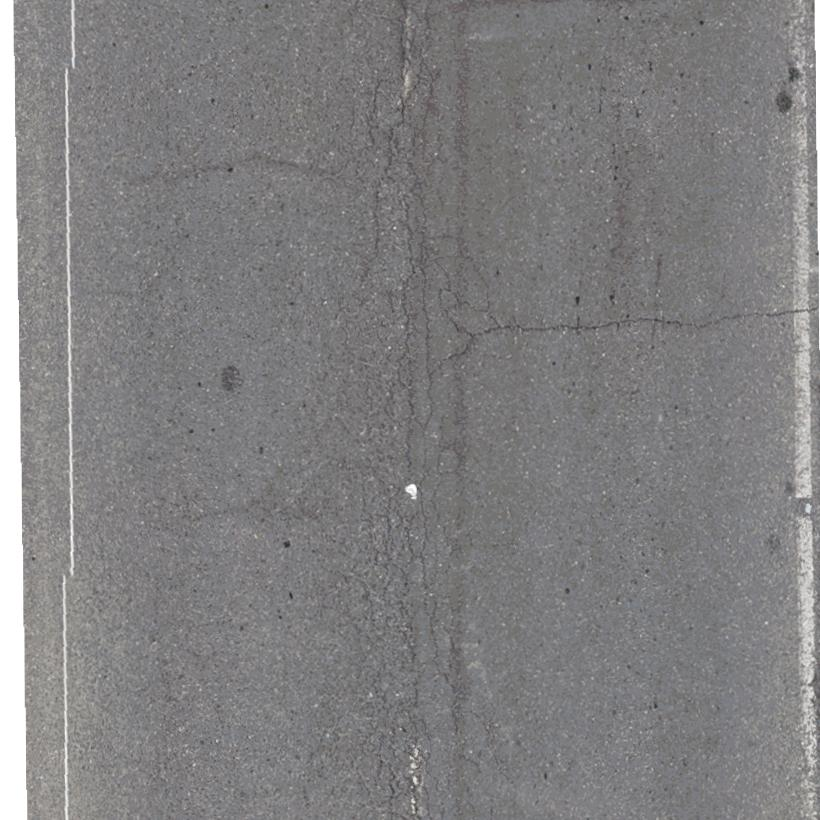GRIETA: (506, 305, 819, 332), (167, 152, 329, 180)
PIEL DE COCODRILO: (297, 0, 513, 819)
